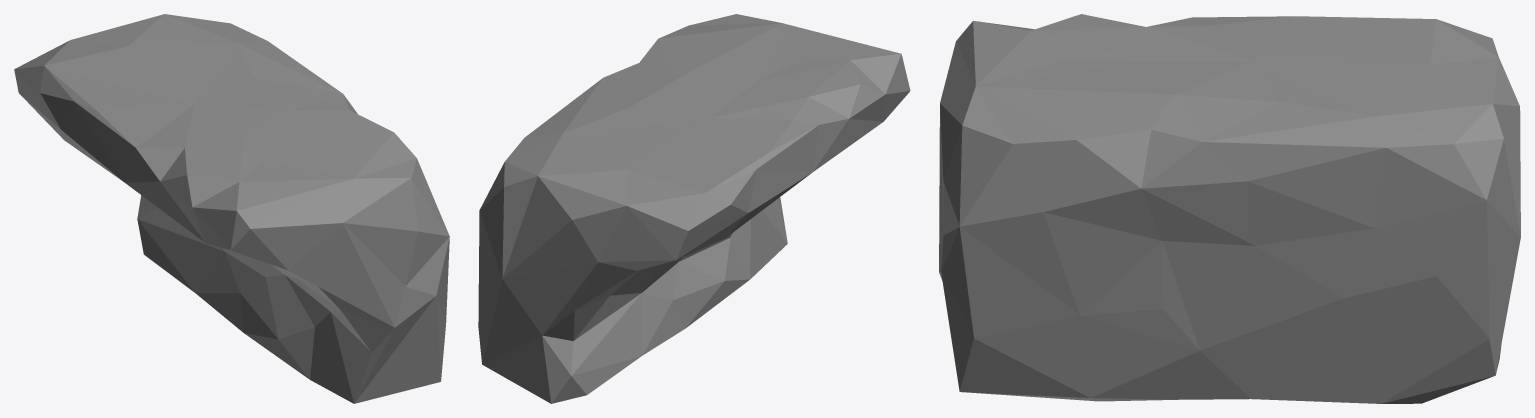
Rendered from rock6.fbx.
3 views of the same model, side by side, from view 1: azimuth 30°, elevation 25°; view 2: azimuth 150°, elevation 25°; view 3: azimuth 270°, elevation 25° (orthographic). The views are drawn at different scales.
Parts seen in each view (by area): view 1: Cube; view 2: Cube; view 3: Cube.
Boxes of the visible parts, left/top/right/bottom form: Cube: left=14, top=14, right=449, bottom=403; Cube: left=478, top=14, right=910, bottom=403; Cube: left=939, top=14, right=1520, bottom=403.
Bounding box in the file's own units: 4.06 × 4.05 × 7.54.
